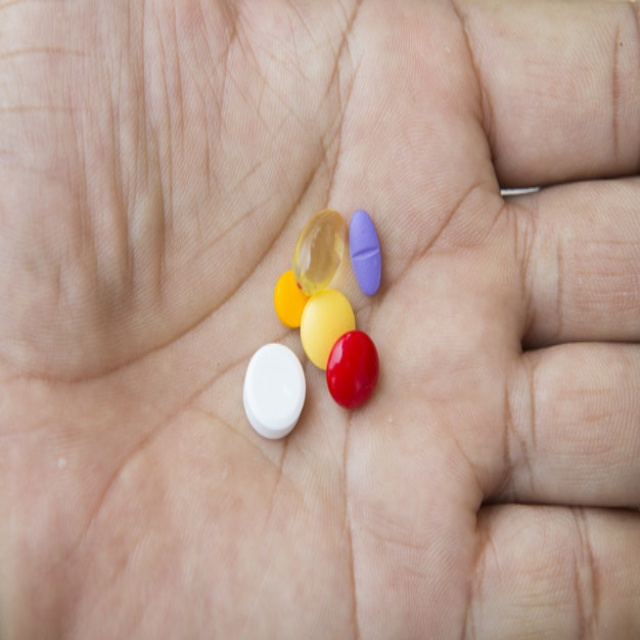pill: (238, 224, 299, 285), (294, 187, 347, 240), (320, 216, 371, 268), (288, 137, 339, 189), (341, 134, 376, 193), (270, 176, 305, 212)
